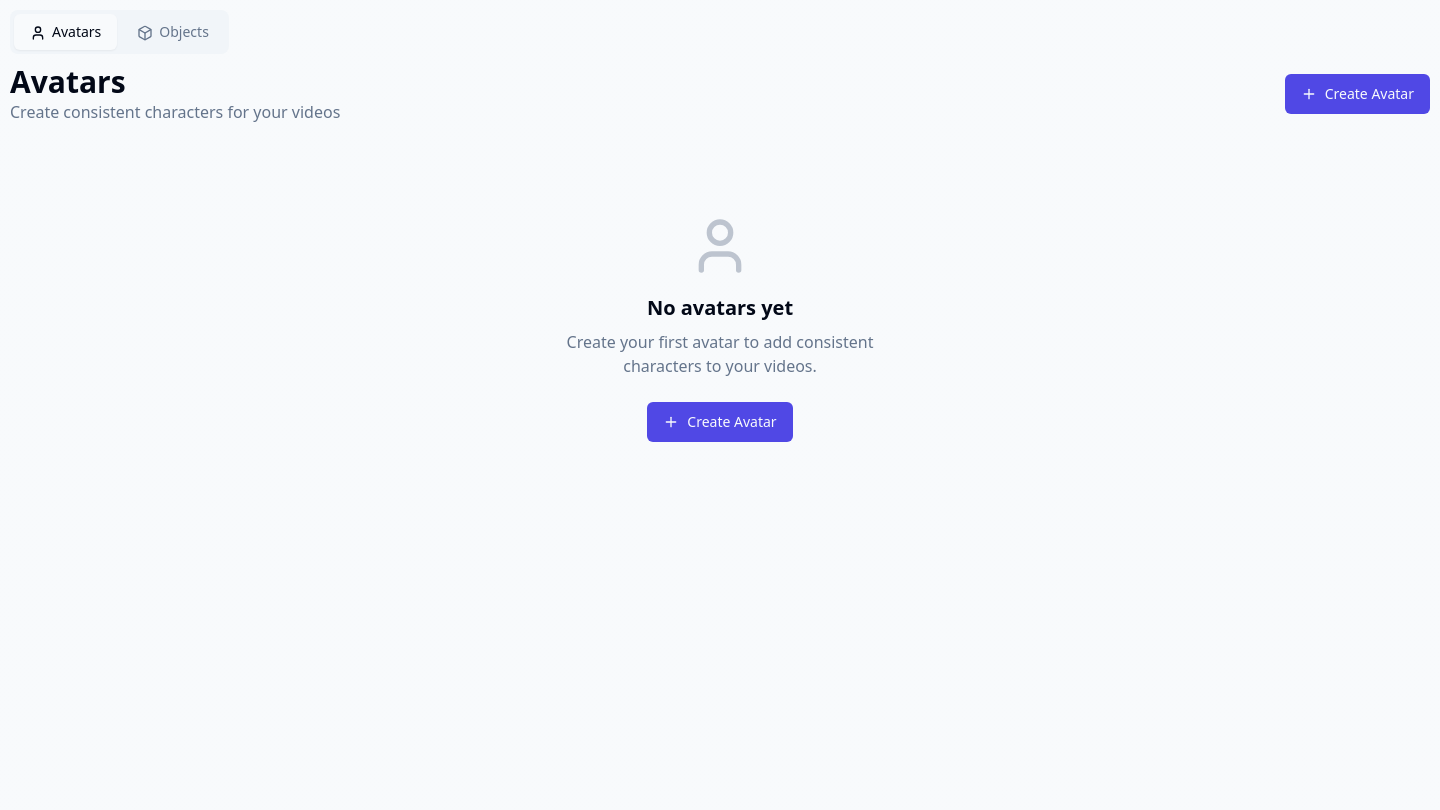
Test: Avatars Page › Objects Tab › renders object cards when objects are returned from API
The image size is (1440, 810).
Step 1. Click the button "Objects" → (173, 32), box [121, 14, 225, 50]
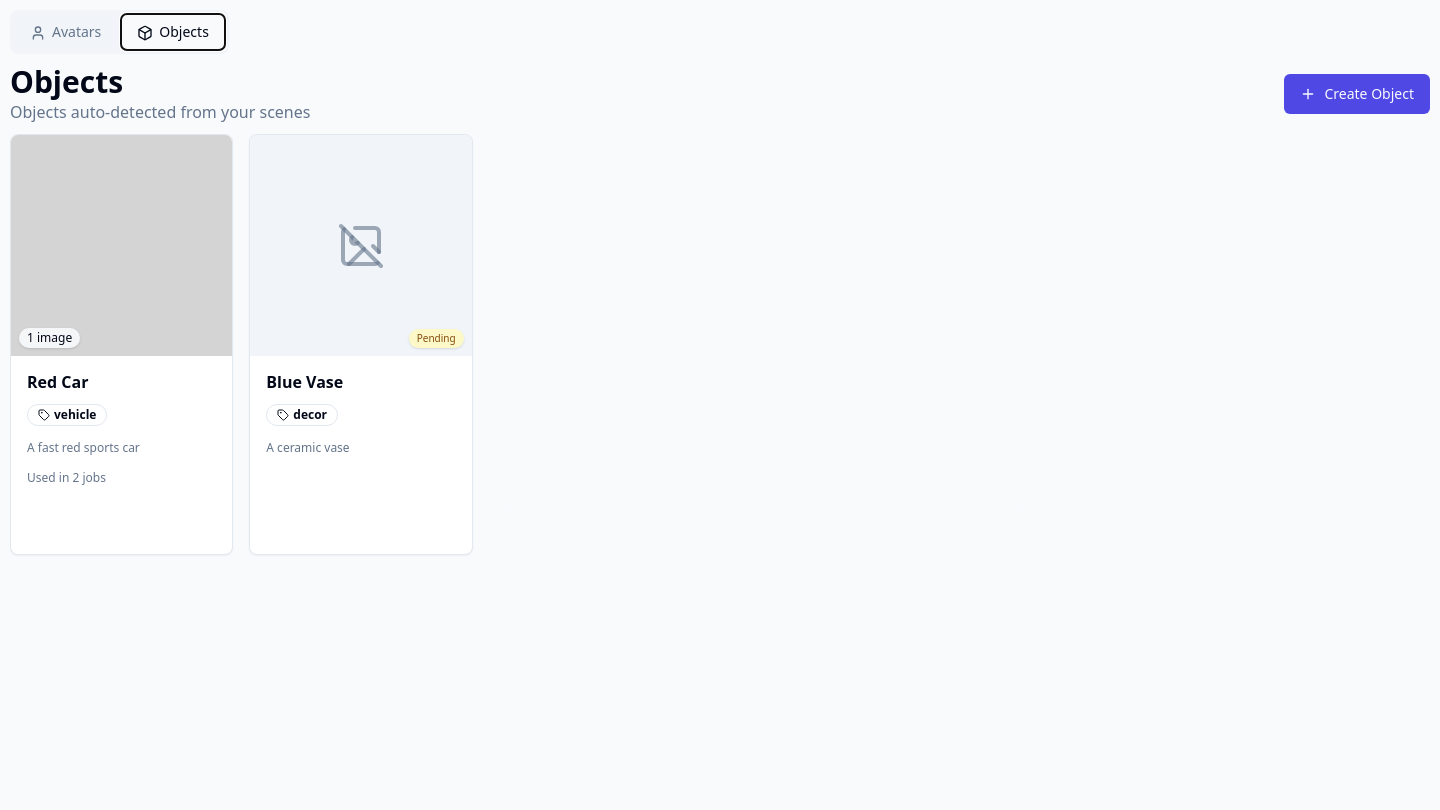
Result: the heading "Red Car" is shown at [27, 371, 88, 393]
Result: the heading "Blue Vase" is shown at [266, 371, 343, 393]
Result: the text "vehicle" is shown at [27, 404, 107, 426]
